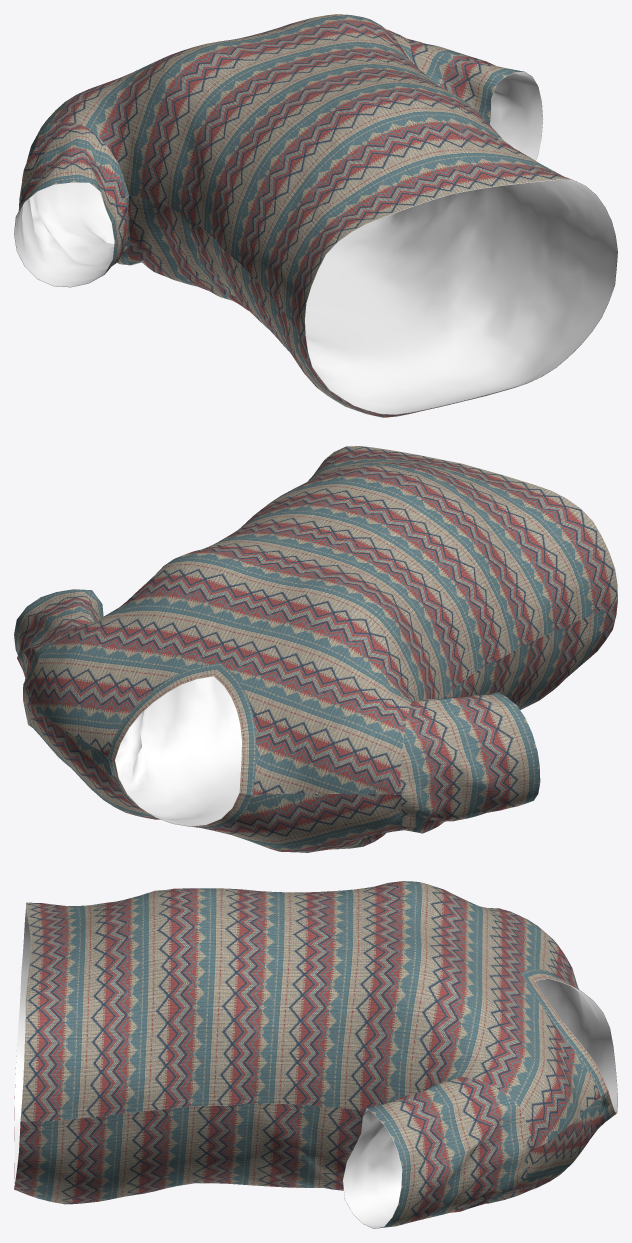
The model's file is male_fat.glb.
The picture shows the model from 3 angles, top to bottom: view 1: azimuth 30°, elevation 25°; view 2: azimuth 150°, elevation 25°; view 3: azimuth 270°, elevation 25°; orthographic projection. The views are drawn at different scales.
Visible parts, largest first — view 1: male_fat; view 2: male_fat; view 3: male_fat.
Boxes of the visible parts, box(x1,y1,x2,y2) form: male_fat: box(14, 14, 617, 417); male_fat: box(14, 446, 617, 852); male_fat: box(14, 881, 617, 1228).
Size of the model in its own units: 0.6903 by 0.3258 by 0.6624.
2 materials, 1 textured.
